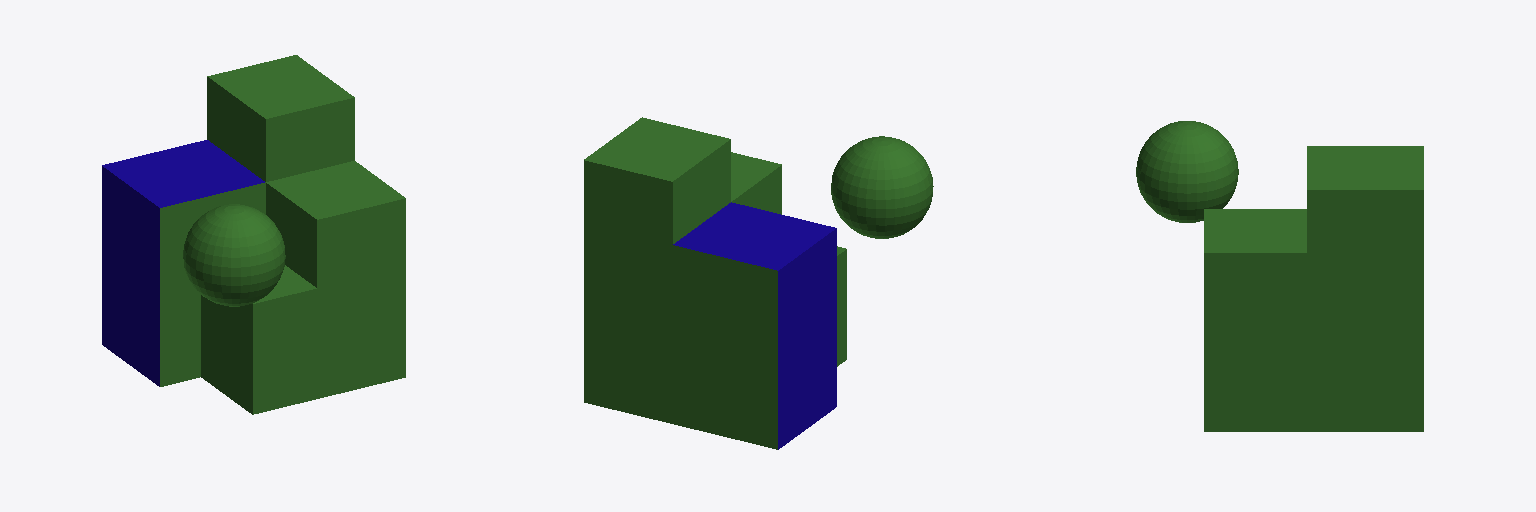
The model's file is blocks2.obj.
The picture shows the model from 3 angles: view 1: azimuth 30°, elevation 25°; view 2: azimuth 150°, elevation 25°; view 3: azimuth 270°, elevation 25°; orthographic projection.
Visible parts, largest first — view 1: Cube; view 2: Cube; view 3: Cube.
Part boxes in pixels (left/top/right/bottom): Cube: left=102, top=55, right=405, bottom=414; Cube: left=584, top=117, right=933, bottom=449; Cube: left=1136, top=121, right=1423, bottom=431.
Bounding box in the file's own units: 5.05 × 5.2 × 5.6.